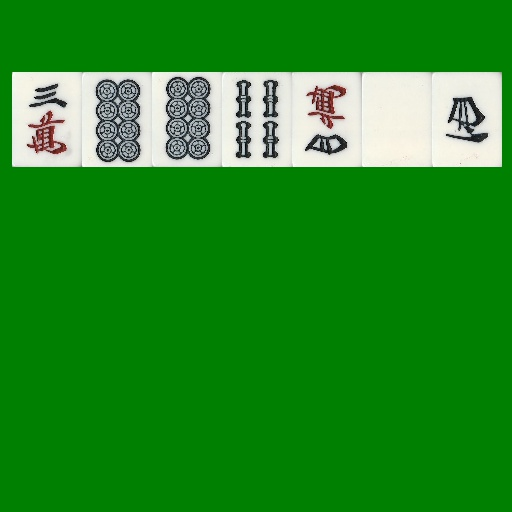3m: (12, 72, 82, 167)
4m: (292, 72, 362, 167)
4s: (222, 72, 292, 167)
8p: (82, 72, 152, 167), (152, 72, 222, 167)
west: (432, 72, 502, 167)
white: (362, 72, 432, 167)
